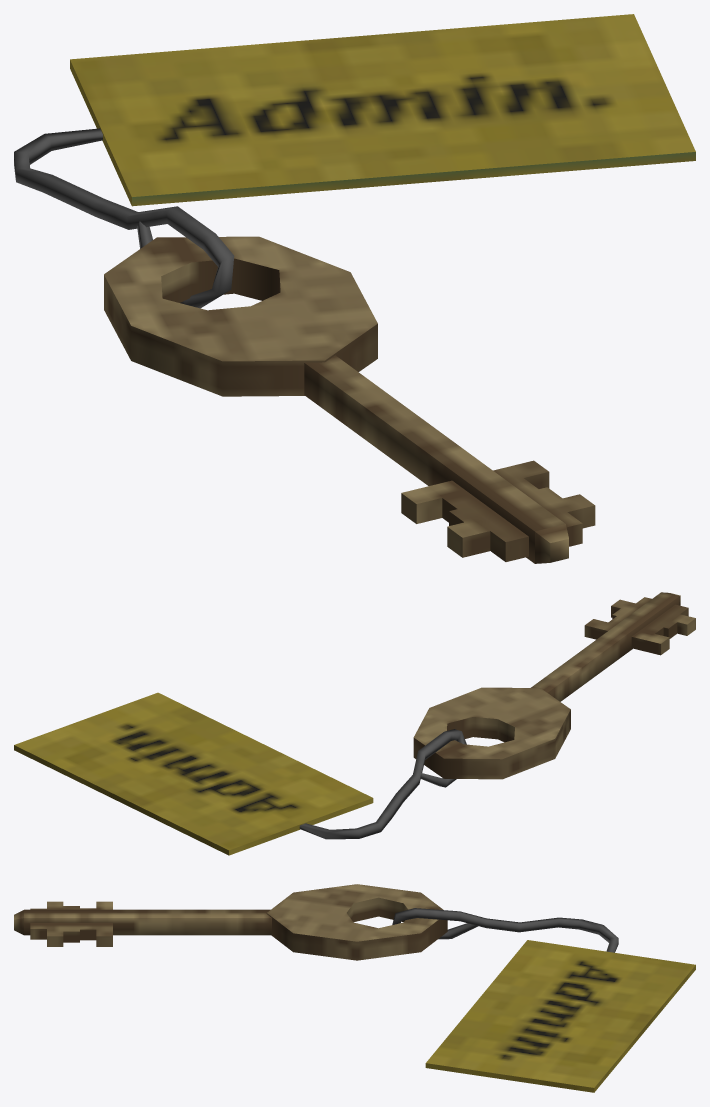
File: key_03.fbx
3 views of the same model, one above another, from view 1: azimuth 30°, elevation 25°; view 2: azimuth 150°, elevation 25°; view 3: azimuth 270°, elevation 25° (orthographic). The views are drawn at different scales.
Parts seen in each view (by area): view 1: key_03; view 2: key_03; view 3: key_03.
Boxes of the visible parts, x1,y1,x2,y2 form: key_03: (14,14,695,563); key_03: (14,592,695,855); key_03: (14,884,695,1092).
Size of the model in its own units: 19.68 by 1.71 by 29.89.
Materials: 1 (1 with a texture image).
